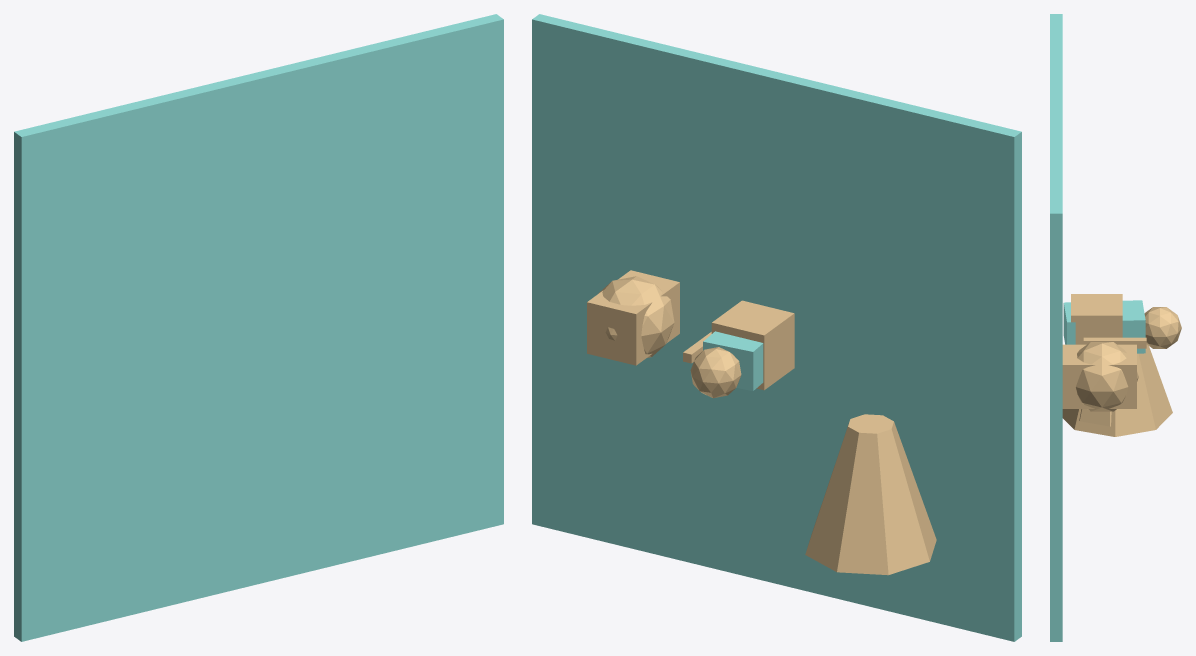
The model's file is rogue-mines-kit.glb.
3 renders of one model, left to right at view 1: azimuth 30°, elevation 25°; view 2: azimuth 150°, elevation 25°; view 3: azimuth 270°, elevation 25°, orthographic. The views are drawn at different scales.
Parts seen in each view (by area): view 1: ENVIRONMENT_GROUND; view 2: ENVIRONMENT_GROUND, ENVIRONMENT_LANDMARK, PROFILE_OBSTACLE_DETAIL, PROFILE_PLAYER_DETAIL, OBSTACLE, PLAYER_HEAD, PLAYER_BODY; view 3: ENVIRONMENT_GROUND, ENVIRONMENT_LANDMARK, OBSTACLE, PROFILE_PLAYER_DETAIL, PROFILE_OBSTACLE_DETAIL, PLAYER_BODY, PLAYER_HEAD, PLAYER_TOOL, PROFILE_ENVIRONMENT_DETAIL.
Part boxes in pixels (x1,y1,x2,y2): ENVIRONMENT_GROUND: (14, 14, 503, 641); ENVIRONMENT_GROUND: (532, 14, 1021, 641); ENVIRONMENT_LANDMARK: (805, 414, 936, 575); PROFILE_OBSTACLE_DETAIL: (587, 270, 679, 365); PROFILE_PLAYER_DETAIL: (711, 300, 794, 390); OBSTACLE: (598, 276, 674, 357); PLAYER_HEAD: (690, 347, 741, 398); PLAYER_BODY: (703, 331, 763, 390); ENVIRONMENT_GROUND: (1050, 14, 1062, 641); ENVIRONMENT_LANDMARK: (1062, 344, 1172, 436); OBSTACLE: (1076, 342, 1138, 411); PROFILE_PLAYER_DETAIL: (1071, 294, 1122, 344); PROFILE_OBSTACLE_DETAIL: (1062, 344, 1136, 408); PLAYER_BODY: (1063, 300, 1145, 353); PLAYER_HEAD: (1144, 307, 1181, 348); PLAYER_TOOL: (1083, 337, 1146, 348); PROFILE_ENVIRONMENT_DETAIL: (1079, 409, 1111, 426).
Size of what is drawn, in the model's own units: 9 by 9 by 2.51.
